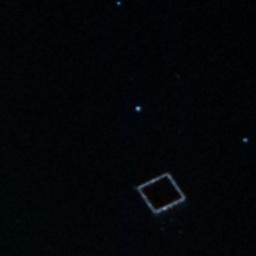square_solid: (132, 167, 188, 221)
